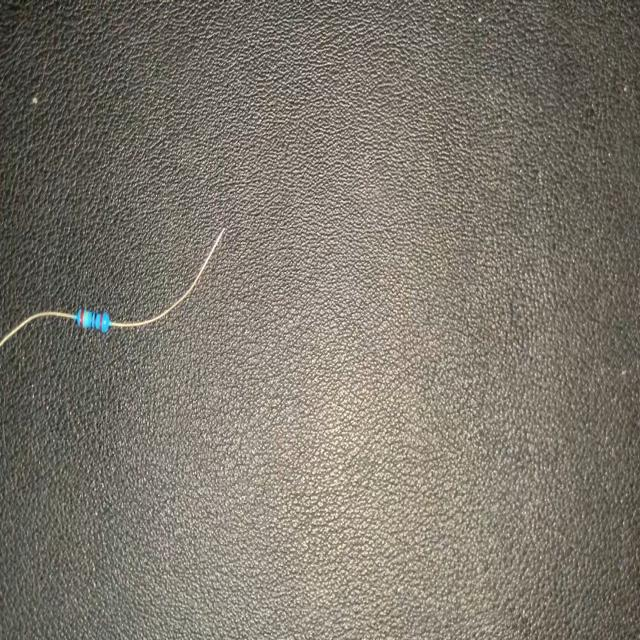resistor: (0, 227, 227, 345)
